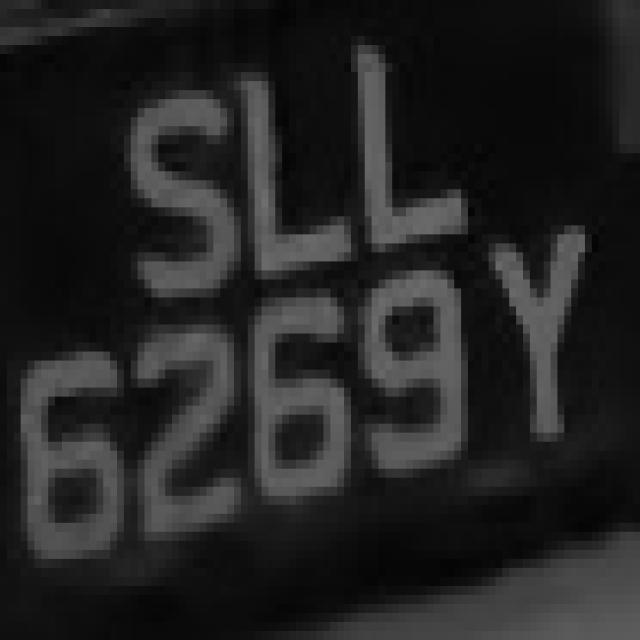2: (117, 279, 234, 568)
6: (7, 297, 138, 595), (248, 270, 351, 532)
9: (330, 216, 475, 505)
L: (310, 27, 502, 261), (234, 54, 337, 298)
S: (90, 72, 254, 316)
Y: (468, 162, 612, 424)
